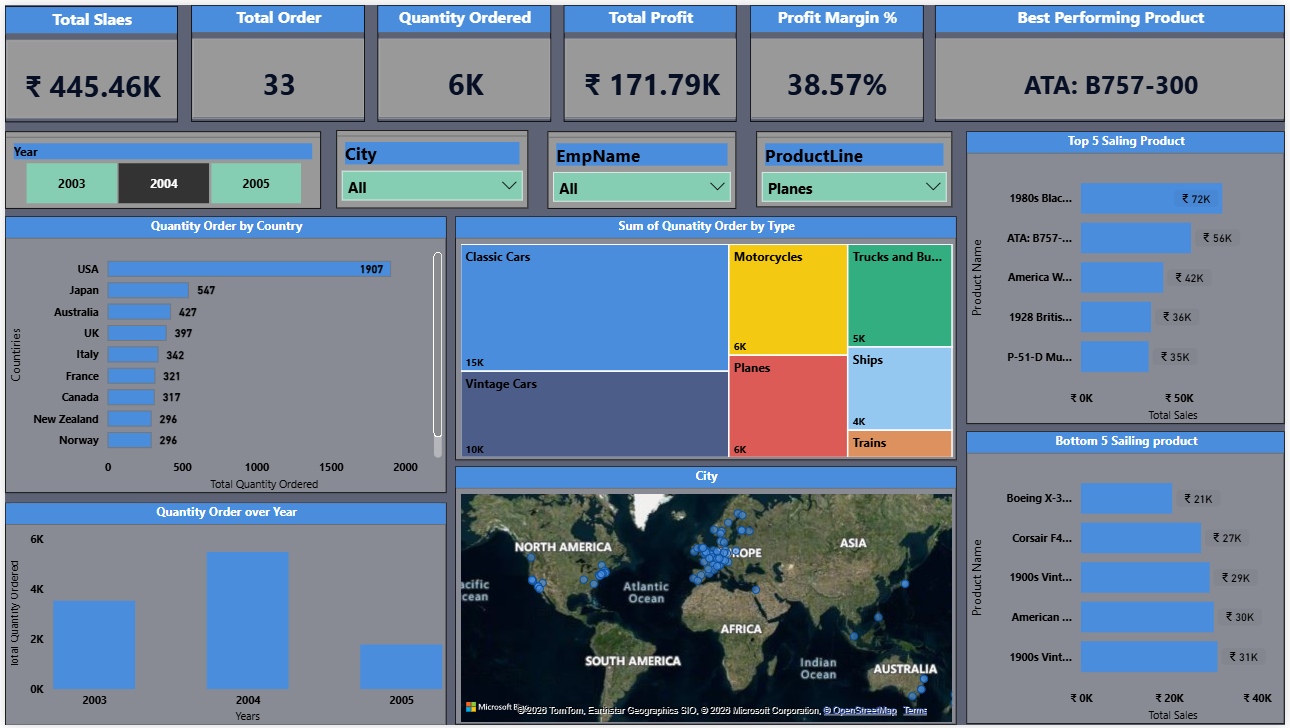

This screenshot's page, from the dashboard's own definition file:
{"tool":"powerbi","page":{"name":"Main Dashboard","canvas":[1280,720],"ordinal":0},"visuals":[{"type":"cardVisual","title":"Quantity Ordered","fields":{"Data":["Sum(order details.quantityOrdered)"]},"box":[372.2,0,173.6,116.7],"z":0},{"type":"barChart","title":"Top 5 Saling Product","fields":{"Category":["products.productName"],"Y":["Sum(order details.Sales)"]},"box":[960.9,126.4,318.4,293.1],"z":1000},{"type":"barChart","title":"Quantity Order by Country","fields":{"Y":["Sum(order details.quantityOrdered)"],"Category":["customers.country"]},"box":[0,211.5,441.4,277],"z":2000},{"type":"slicer","fields":{"Values":["orders.year"]},"box":[0,125.8,316.1,77.2],"z":3000},{"type":"cardVisual","title":"Total Profit","fields":{"Data":["Sum(order details.profit)"]},"box":[558.3,0,173,116.7],"z":4000},{"type":"cardVisual","title":"Total Slaes","fields":{"Data":["Sum(order details.Sales)"]},"box":[0,1.2,172.5,116.2],"z":5000},{"type":"treemap","title":"Sum of Qunatity Order by Type","fields":{"Group":["products.productLine"],"Values":["Sum(order details.quantityOrdered)"]},"box":[450,211.4,501.4,244.3],"z":6000},{"type":"cardVisual","title":"Profit Margin %","fields":{"Data":["order details.Profit Margin %"]},"box":[744.4,0,173.6,116.7],"z":7000},{"type":"slicer","fields":{"Values":["customers.city"]},"box":[331.8,124.6,191.8,78.4],"z":8000},{"type":"slicer","fields":{"Values":["customers.FullName"]},"box":[543.1,126.1,188.9,77.8],"z":9000},{"type":"slicer","fields":{"Values":["products.productLine"]},"box":[751.4,126.1,195.8,76.4],"z":10000},{"type":"clusteredColumnChart","title":"Quantity Order over Year","fields":{"Category":["orders.year"],"Y":["Sum(order details.quantityOrdered)"]},"box":[0,497.1,441.6,223.2],"z":11000},{"type":"barChart","title":"Bottom 5 Sailing product","fields":{"Category":["products.productName"],"Y":["Sum(order details.Sales)"]},"box":[960.9,426.4,318.4,293.1],"z":12000},{"type":"cardVisual","title":"Best Performing Product","fields":{"Data":["order details.Most Ordered Product"]},"box":[930.2,0,349.9,117],"z":13000},{"type":"cardVisual","title":"Total Order","fields":{"Data":["order details.Total Orders"]},"box":[186.1,0,173.6,116.7],"z":14000},{"type":"map","title":"City","fields":{"Category":["customers.city"]},"box":[450,461.4,501.4,258.6],"z":15000}]}

Visuals, with their boxes in screenshot pixels (x1, y1, x2, y2), scaled from the page's 1280x720 canvas onto the 1290x728 screenshot:
"Quantity Ordered" cardVisual: rect(375, 0, 550, 118)
"Top 5 Saling Product" barChart: rect(968, 128, 1289, 424)
"Quantity Order by Country" barChart: rect(0, 214, 445, 494)
slicer - orders.year: rect(0, 127, 319, 205)
"Total Profit" cardVisual: rect(563, 0, 737, 118)
"Total Slaes" cardVisual: rect(0, 1, 174, 119)
"Sum of Qunatity Order by Type" treemap: rect(454, 214, 959, 461)
"Profit Margin %" cardVisual: rect(750, 0, 925, 118)
slicer - customers.city: rect(334, 126, 528, 205)
slicer - customers.FullName: rect(547, 128, 738, 206)
slicer - products.productLine: rect(757, 128, 955, 205)
"Quantity Order over Year" clusteredColumnChart: rect(0, 503, 445, 727)
"Bottom 5 Sailing product" barChart: rect(968, 431, 1289, 727)
"Best Performing Product" cardVisual: rect(937, 0, 1289, 118)
"Total Order" cardVisual: rect(188, 0, 363, 118)
"City" map: rect(454, 467, 959, 727)
